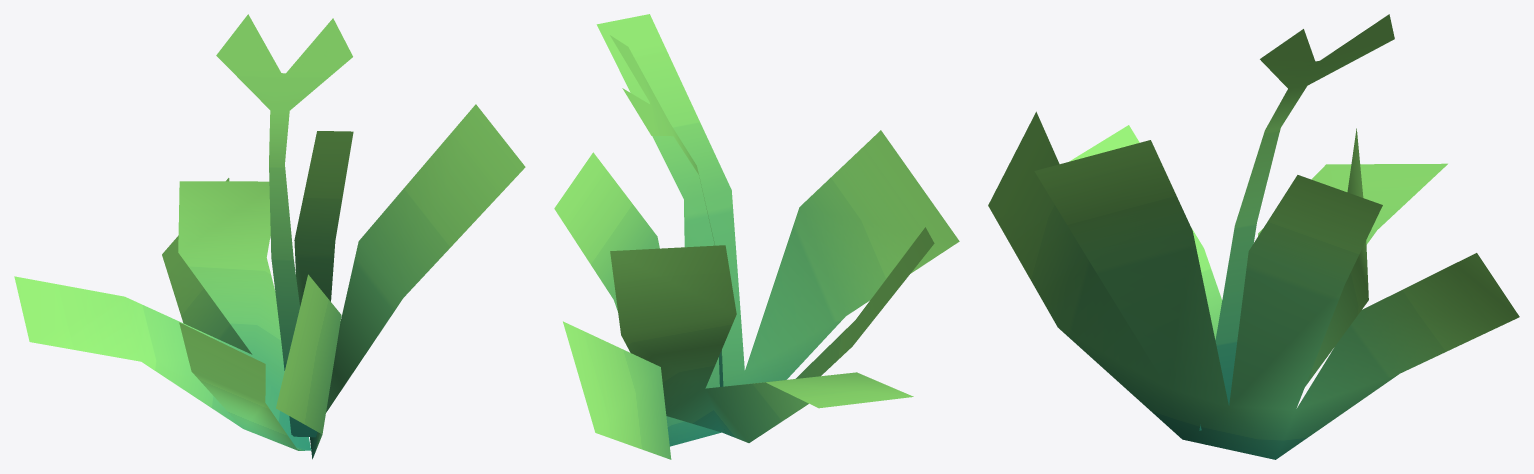
Rendered from mrenda_3.fbx.
The picture shows the model from 3 angles, left to right: view 1: azimuth 30°, elevation 25°; view 2: azimuth 150°, elevation 25°; view 3: azimuth 270°, elevation 25°; orthographic projection. The views are drawn at different scales.
Visible parts, largest first — view 1: pPlane33, pPlane34, pPlane36; view 2: pPlane33, pPlane34, pPlane36; view 3: pPlane33, pPlane36, pPlane34.
Part boxes in pixels (x1,y1,x2,y2): pPlane33: (162, 104, 525, 459); pPlane34: (14, 181, 311, 450); pPlane36: (216, 14, 352, 437); pPlane33: (554, 14, 959, 459); pPlane34: (610, 227, 934, 442); pPlane36: (610, 35, 724, 429); pPlane33: (988, 111, 1519, 459); pPlane36: (1199, 14, 1394, 430); pPlane34: (1069, 125, 1447, 386).
Bounding box in the file's own units: 41.36 × 41.14 × 43.8.
